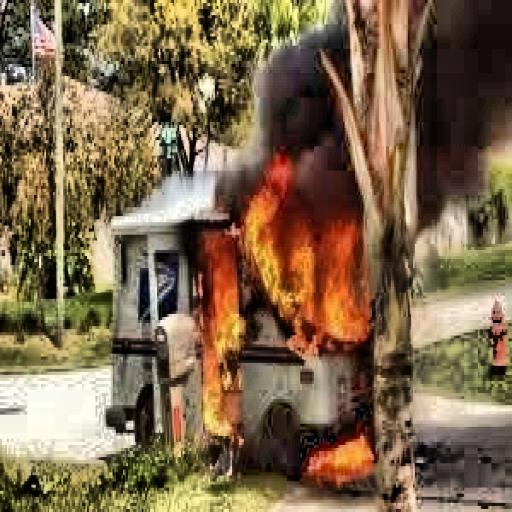fire: (205, 174, 372, 430), (302, 420, 379, 494)
